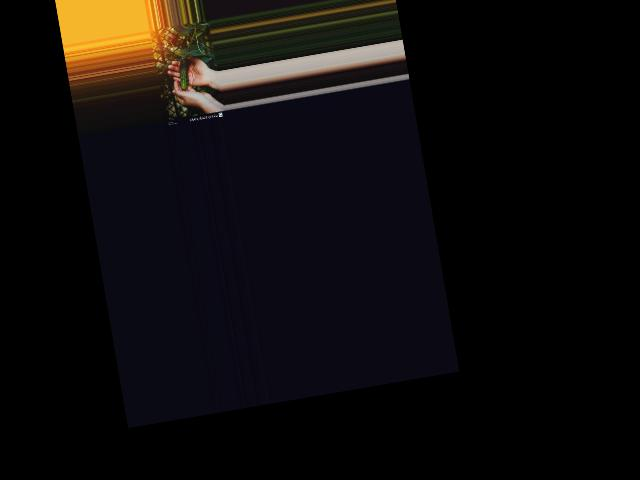cucumber: (176, 58, 192, 90)
